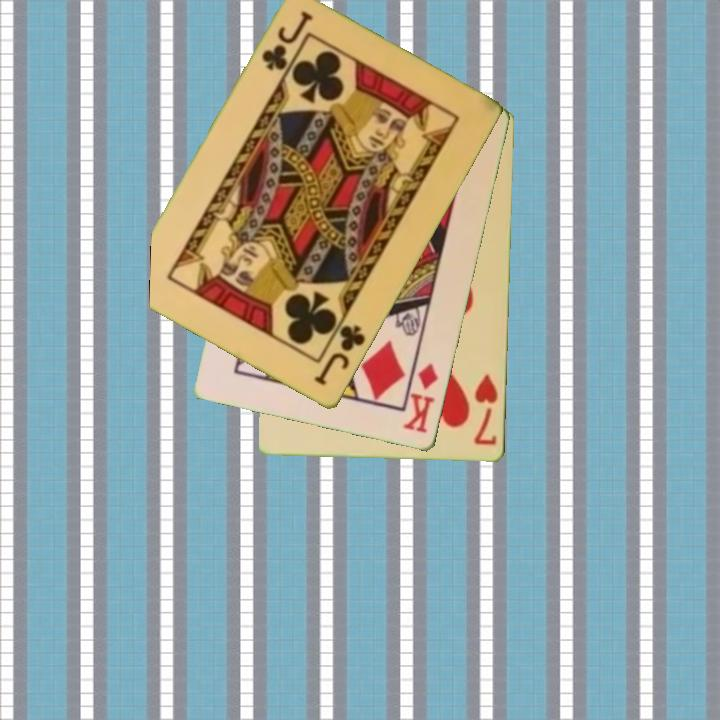7h: (471, 372, 501, 449)
Jc: (310, 321, 369, 390), (258, 8, 316, 74)
Kd: (399, 360, 442, 437)
